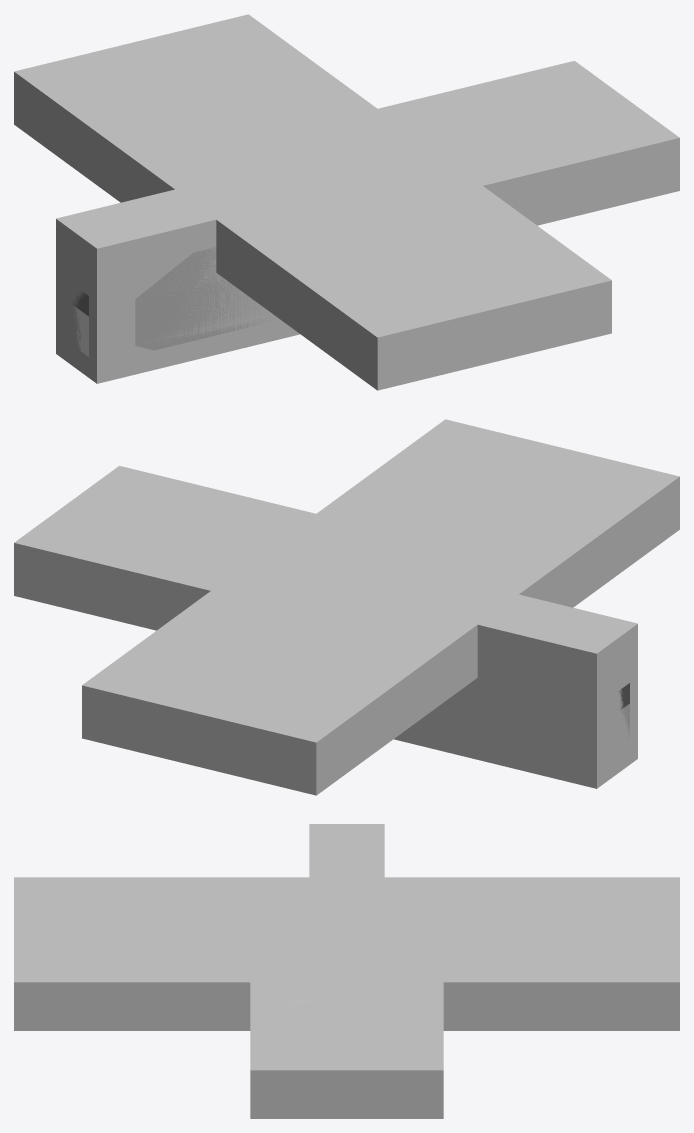
Rendered from SM_Drone_05.fbx.
3 renders of one model, top to bottom at view 1: azimuth 30°, elevation 25°; view 2: azimuth 150°, elevation 25°; view 3: azimuth 270°, elevation 25°, orthographic. The views are drawn at different scales.
Visible parts, largest first — view 1: SM_Drone_05_ConvexHulls, SM_Drone_05; view 2: SM_Drone_05_ConvexHulls; view 3: SM_Drone_05_ConvexHulls.
Boxes of the visible parts, x1=… form: SM_Drone_05_ConvexHulls: x1=14, y1=14, x2=679, y2=390; SM_Drone_05: x1=71, y1=155, x2=513, y2=356; SM_Drone_05_ConvexHulls: x1=14, y1=419, x2=679, y2=795; SM_Drone_05_ConvexHulls: x1=14, y1=824, x2=679, y2=1118.
Bounding box in the file's own units: 131 × 150 × 30.72.
2 materials, 1 textured.
